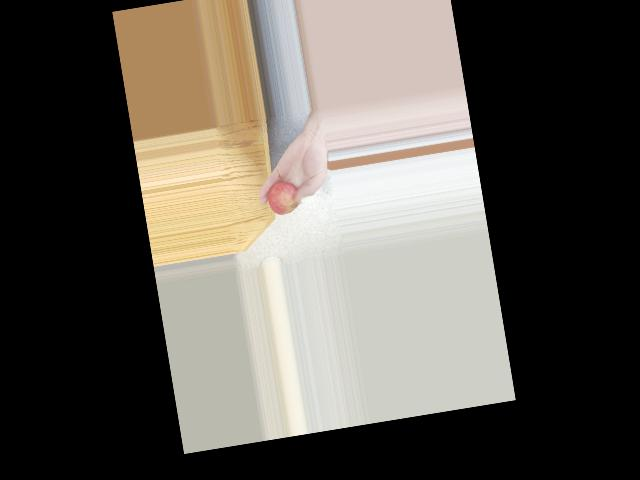apple: (266, 178, 304, 217)
